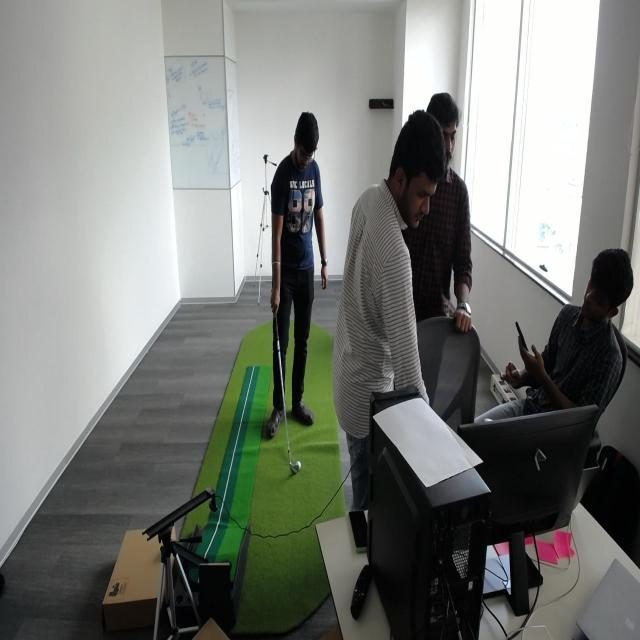ClubHead: (284, 442, 298, 478)
GolfBall: (295, 460, 304, 470)
